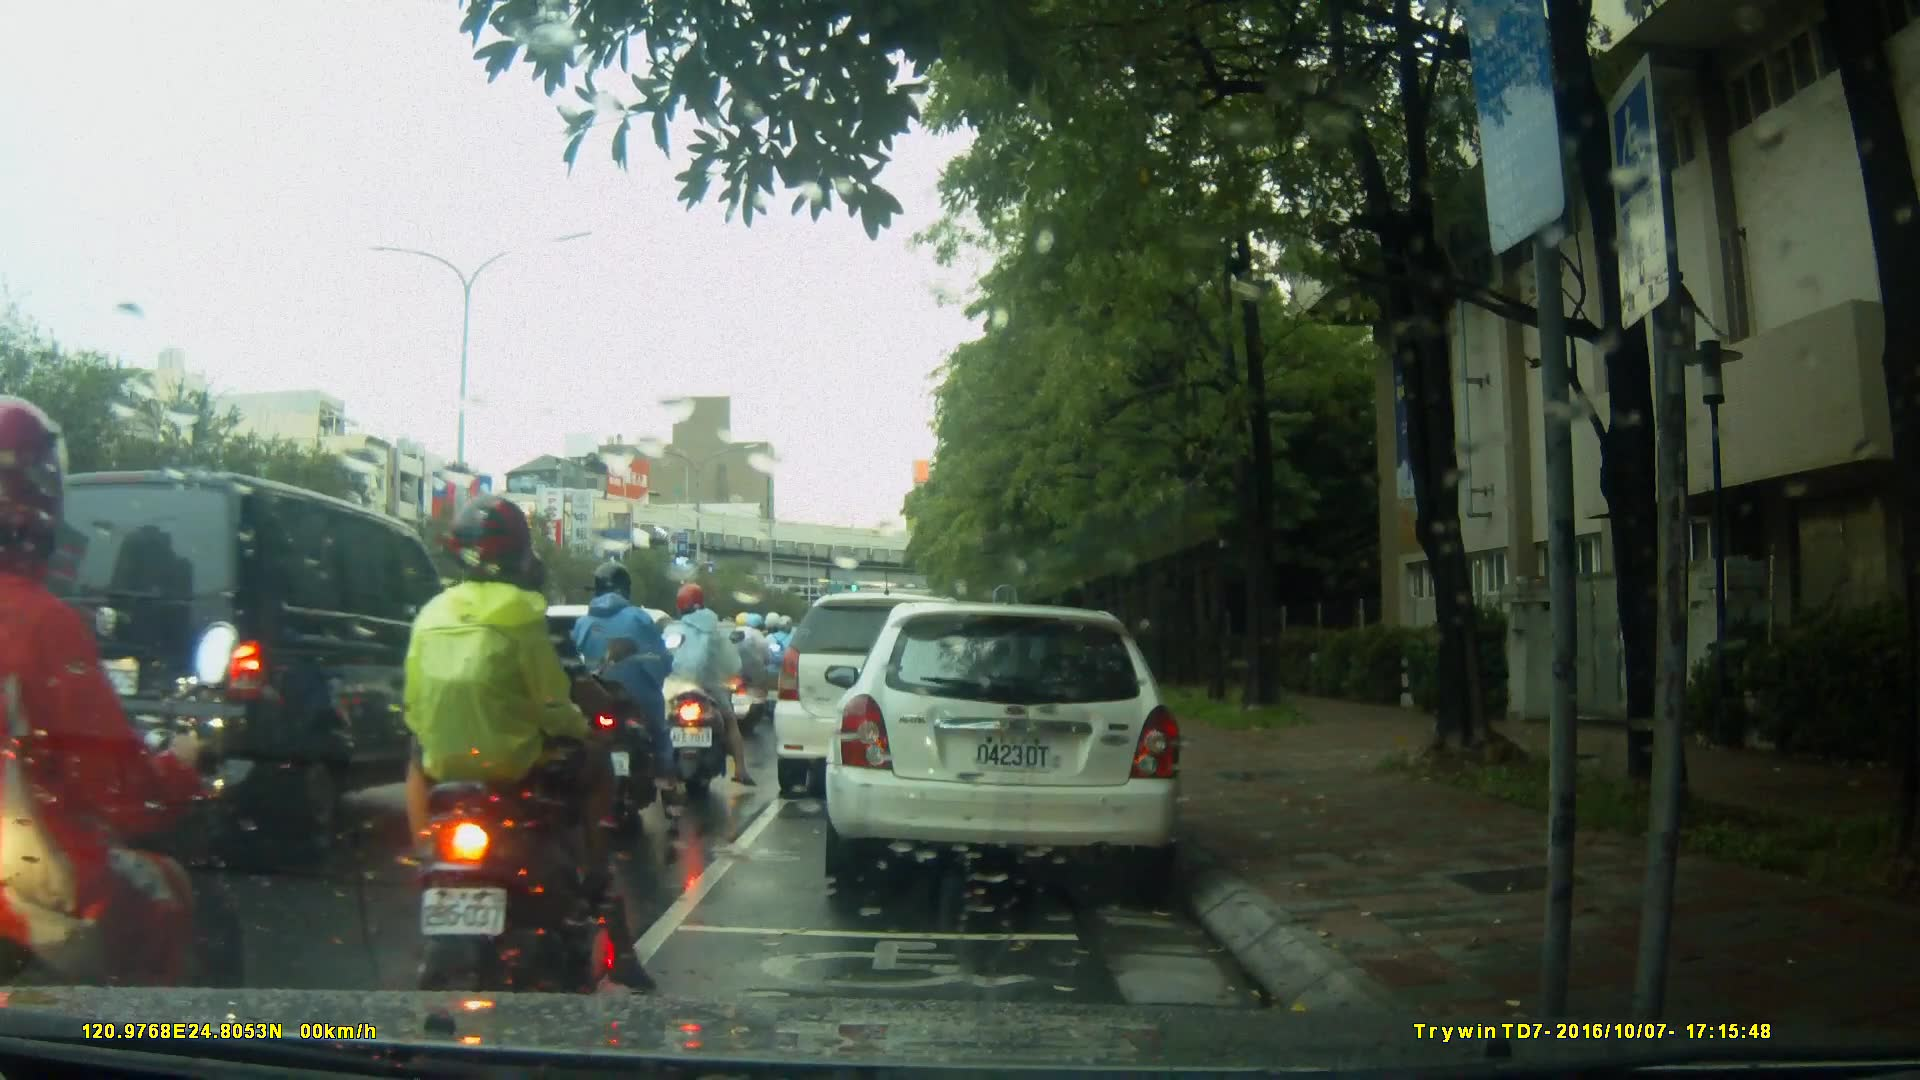rider: (2, 404, 237, 1079), (390, 492, 656, 1000), (430, 566, 589, 909), (563, 564, 681, 838), (653, 585, 747, 794), (720, 612, 774, 734)
vehicle: (19, 460, 447, 867), (822, 604, 1188, 883), (436, 598, 688, 780), (774, 595, 995, 802)
